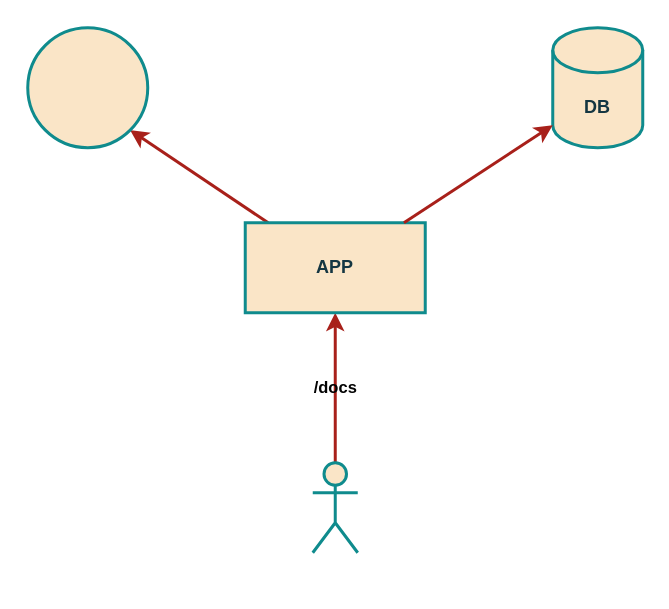
Image size: 669x609. Some labels were removed from this diagram. The centre of each missing label's shape, as x and y in pixels:
LLM: point (87, 87)
User: point (334, 507)
